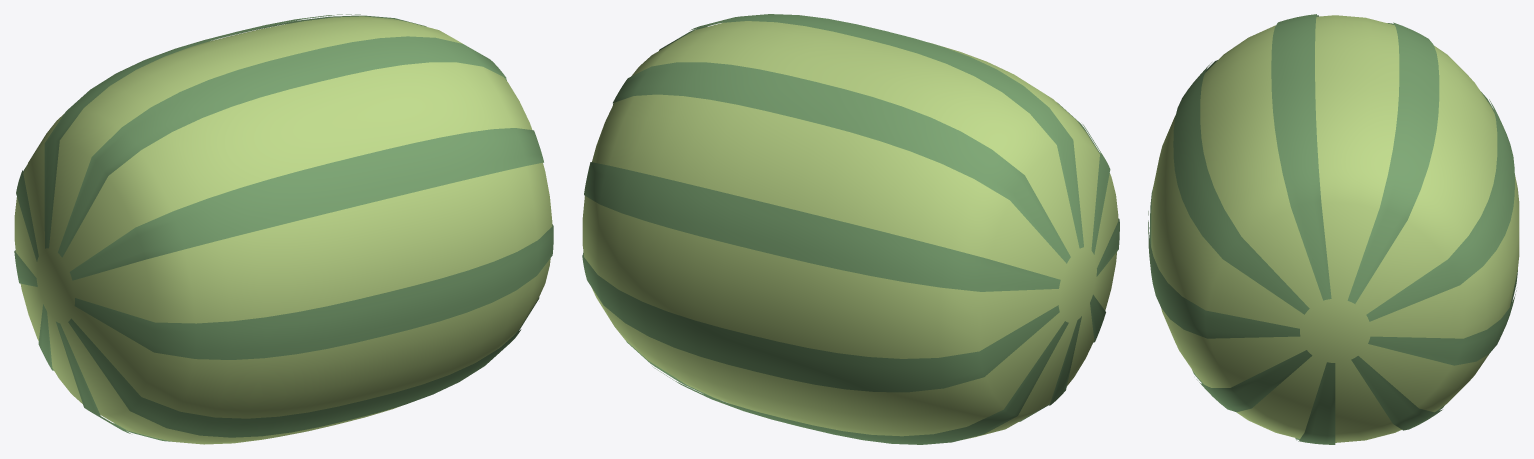
Rendered from fresh-produce-and-groceries-watermelon-whole-e674e845__24343.glb.
3 views of the same model, side by side, from view 1: azimuth 30°, elevation 25°; view 2: azimuth 150°, elevation 25°; view 3: azimuth 270°, elevation 25° (orthographic). The views are drawn at different scales.
Parts seen in each view (by area): view 1: watermelon-whole; view 2: watermelon-whole; view 3: watermelon-whole.
Part boxes in pixels (x1=…): watermelon-whole: x1=14, y1=14, x2=553, y2=444; watermelon-whole: x1=582, y1=14, x2=1119, y2=444; watermelon-whole: x1=1148, y1=14, x2=1519, y2=444.
Bounding box in the file's own units: 0.3 × 0.2321 × 0.231.
